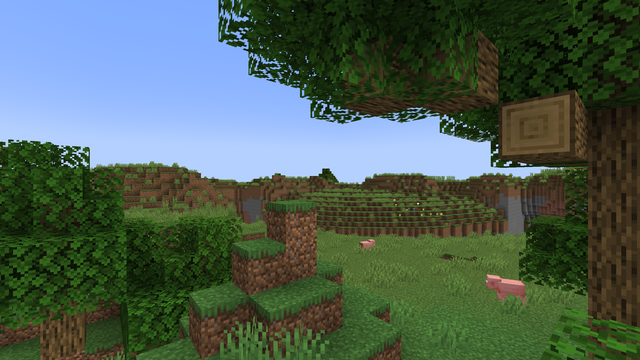cochons: (495, 276, 523, 307), (358, 240, 371, 252)
